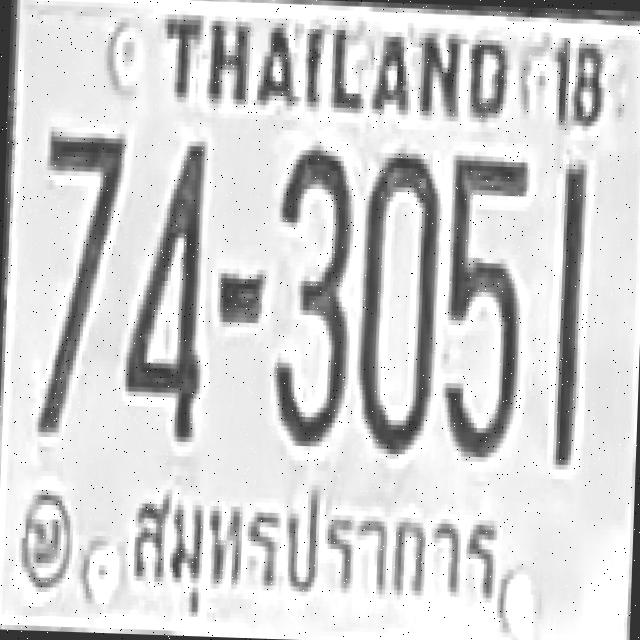0: (356, 147, 440, 450)
1: (548, 163, 585, 464), (551, 161, 585, 462)
3: (268, 146, 352, 444)
4: (120, 136, 208, 440)
5: (440, 152, 527, 455)
7: (36, 128, 126, 436), (40, 128, 125, 368)
SamutPrakan: (120, 466, 506, 620)
